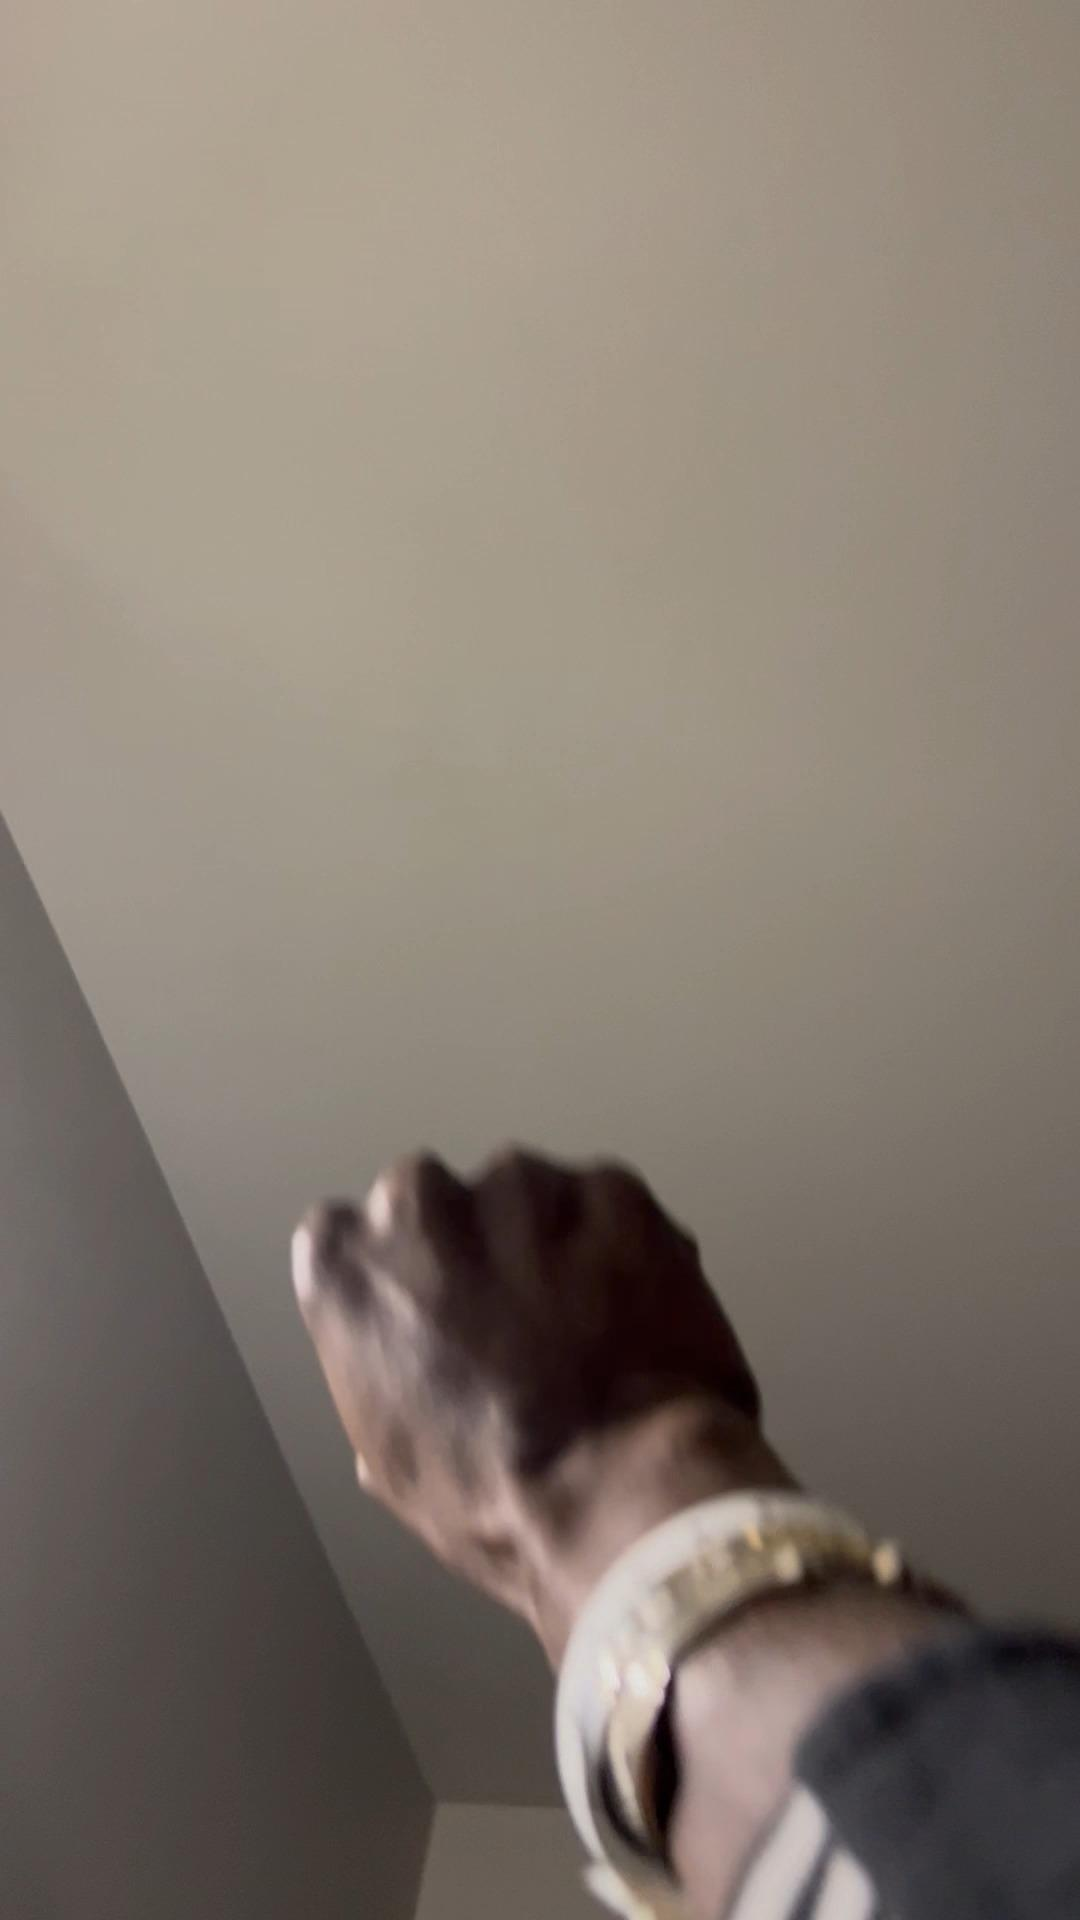Rock: (293, 1143, 764, 1560)
